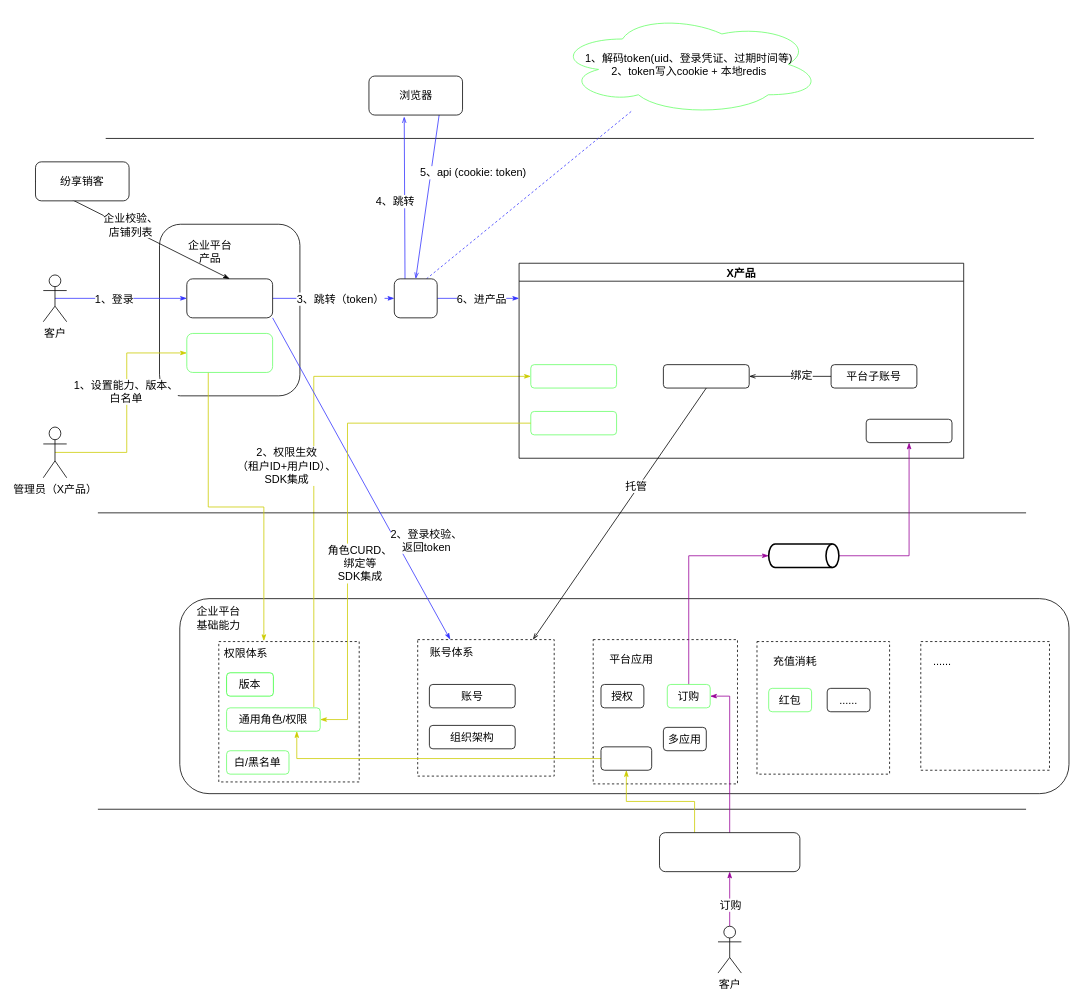
Image size: 1083x1005. Some labels were removed from this diagram. Each missing label, with the centre of its shape:
gate: (x=415, y=298)
产品管理后台: (x=229, y=352)
产品角色管理: (x=573, y=423)
企业总控台: (x=229, y=298)
店铺初始化: (x=908, y=430)
权限控制: (x=573, y=376)
特性差异: (x=626, y=758)
电商平台: (x=729, y=852)
账号+组织架构: (x=706, y=376)
